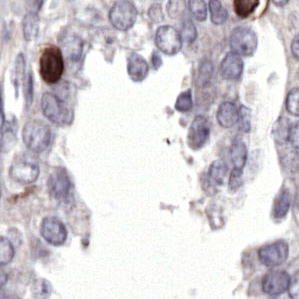Lymphocyte: (39, 45, 66, 84)
